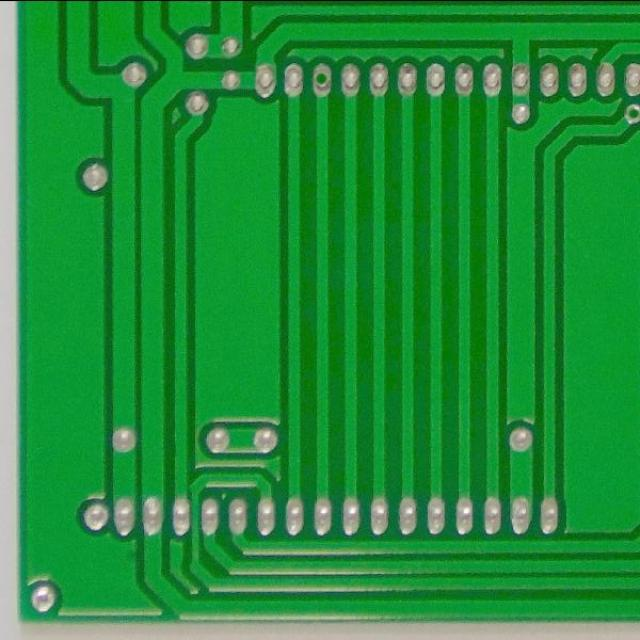missing_hole: (308, 66, 335, 91), (619, 101, 639, 128)
